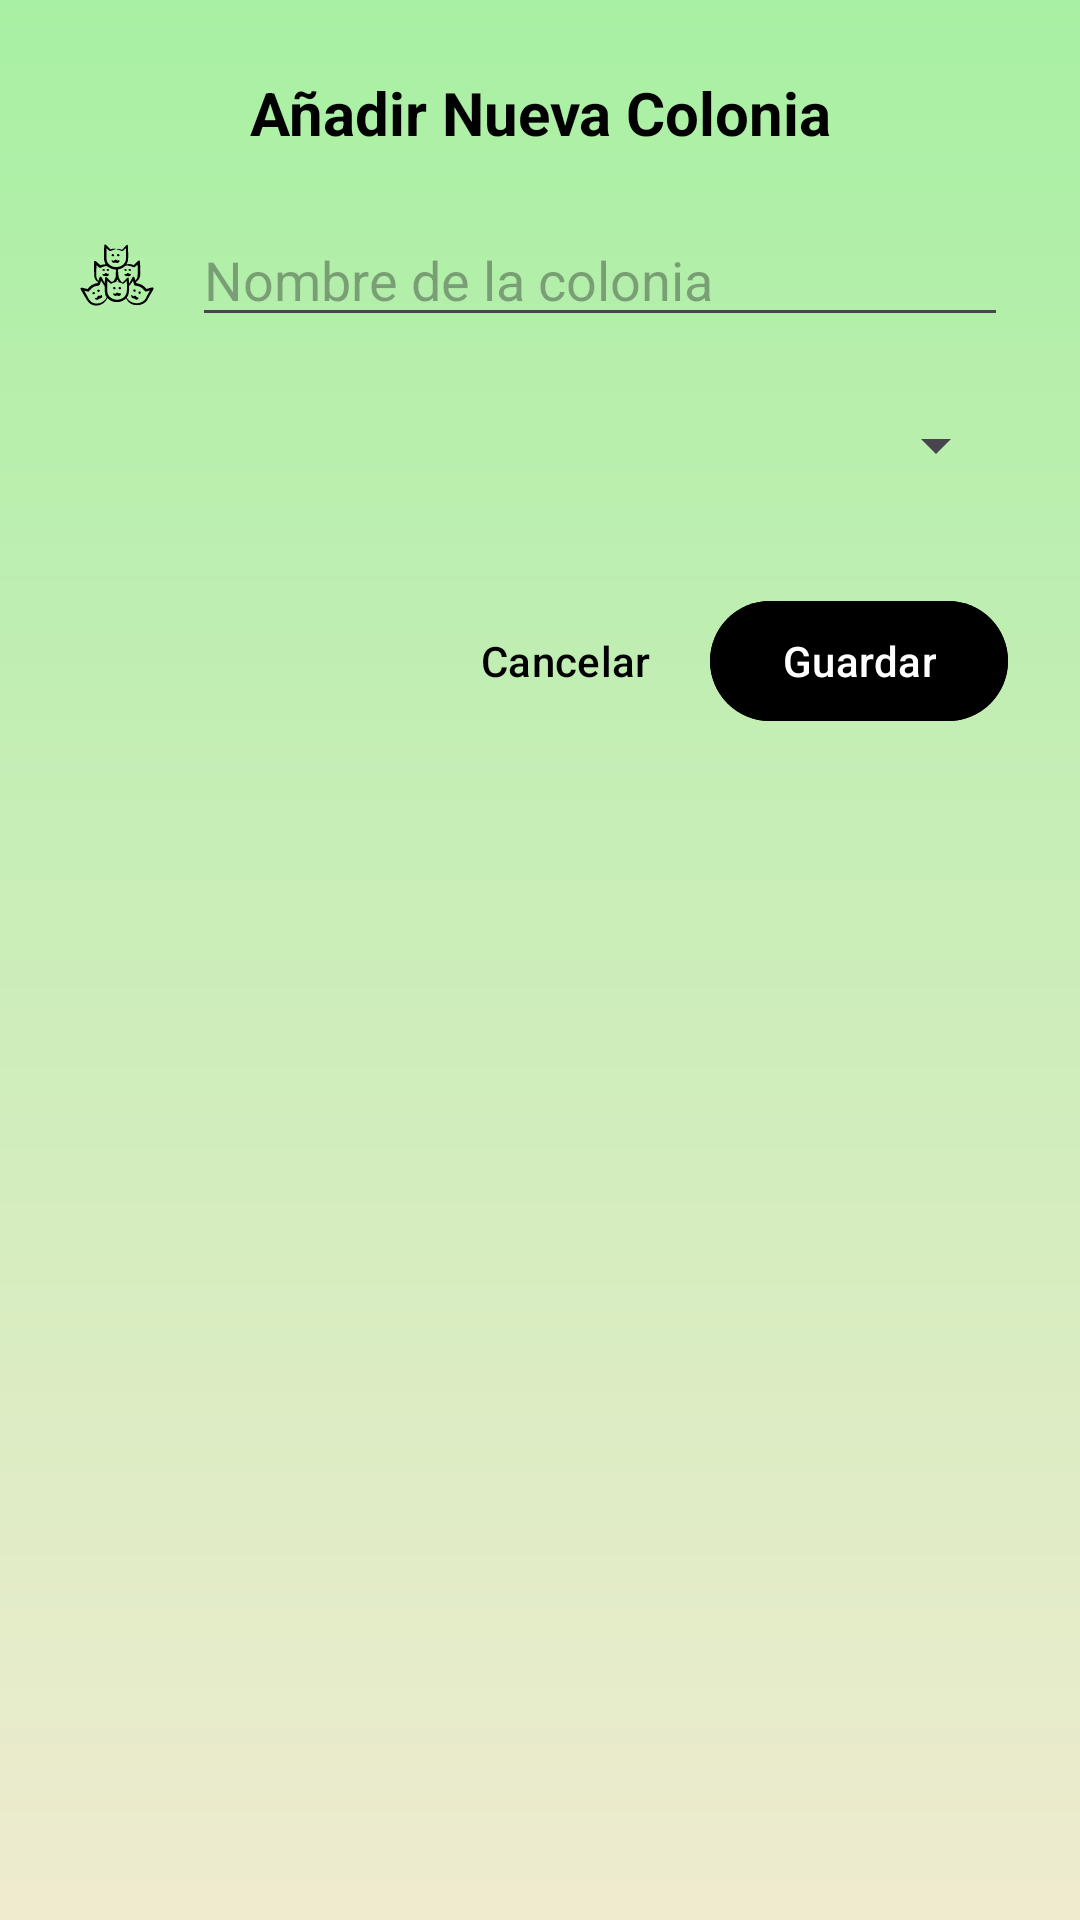

Icon bounding boxes for this 1080 x 1920 phone screenshot, format Rect(x1, y1, x2, y2):
colonias: Rect(80, 244, 154, 306)
